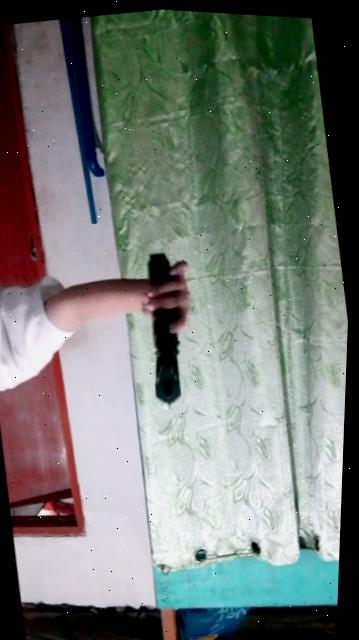pistol: (115, 239, 223, 418)
